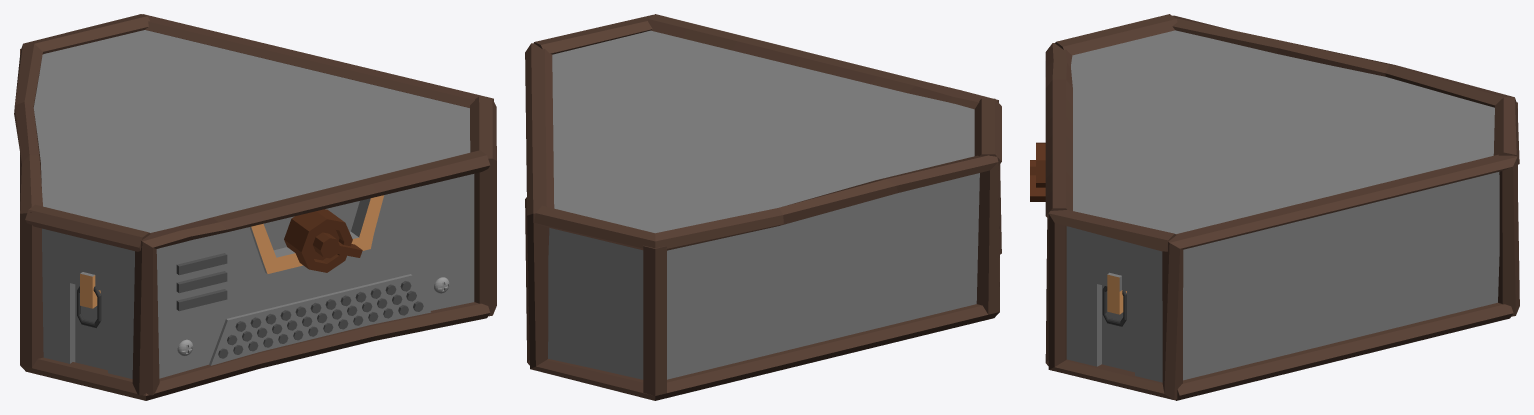
3 views of the same model, side by side, from view 1: azimuth 30°, elevation 25°; view 2: azimuth 150°, elevation 25°; view 3: azimuth 270°, elevation 25° (orthographic).
Visible parts, largest first — view 1: 柱体.009; view 2: 柱体.009; view 3: 柱体.009.
Boxes of the visible parts, x1,y1,x2,y2 form: 柱体.009: (14, 14, 496, 400); 柱体.009: (525, 14, 1001, 400); 柱体.009: (1030, 14, 1519, 400).
Size of the model in its own units: 384 by 127 by 346.
